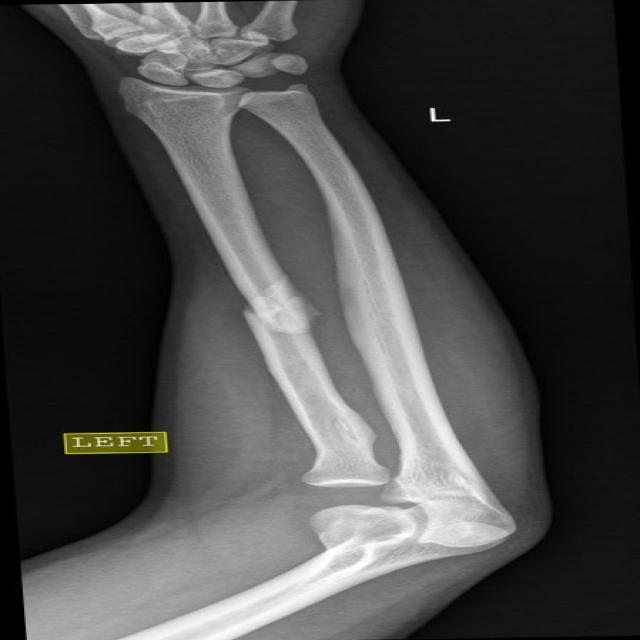Transverse Displaced: (215, 292, 340, 369)
